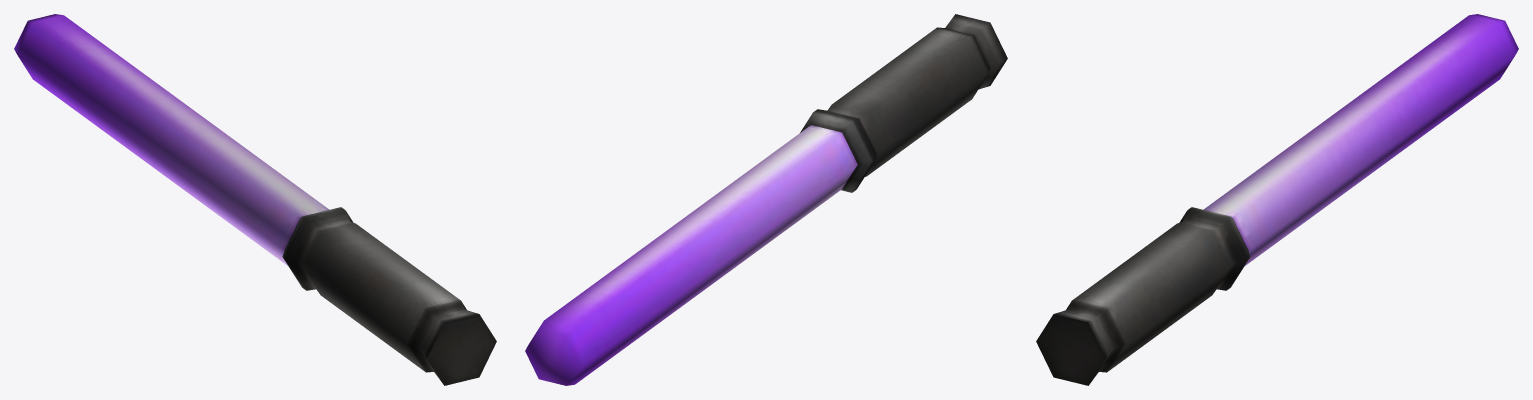
File: sword_cyalume_cyalume.glb
3 renders of one model, left to right at view 1: azimuth 30°, elevation 25°; view 2: azimuth 150°, elevation 25°; view 3: azimuth 330°, elevation 25°, orthographic.
Bounding box in the file's own units: 0.0334 × 0.029 × 0.3143.
1 material, 1 textured.
